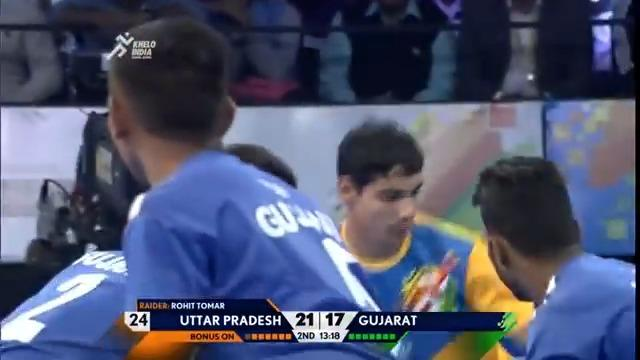Player: (102, 15, 393, 358), (471, 154, 636, 359)
Raider: (330, 118, 533, 358)
